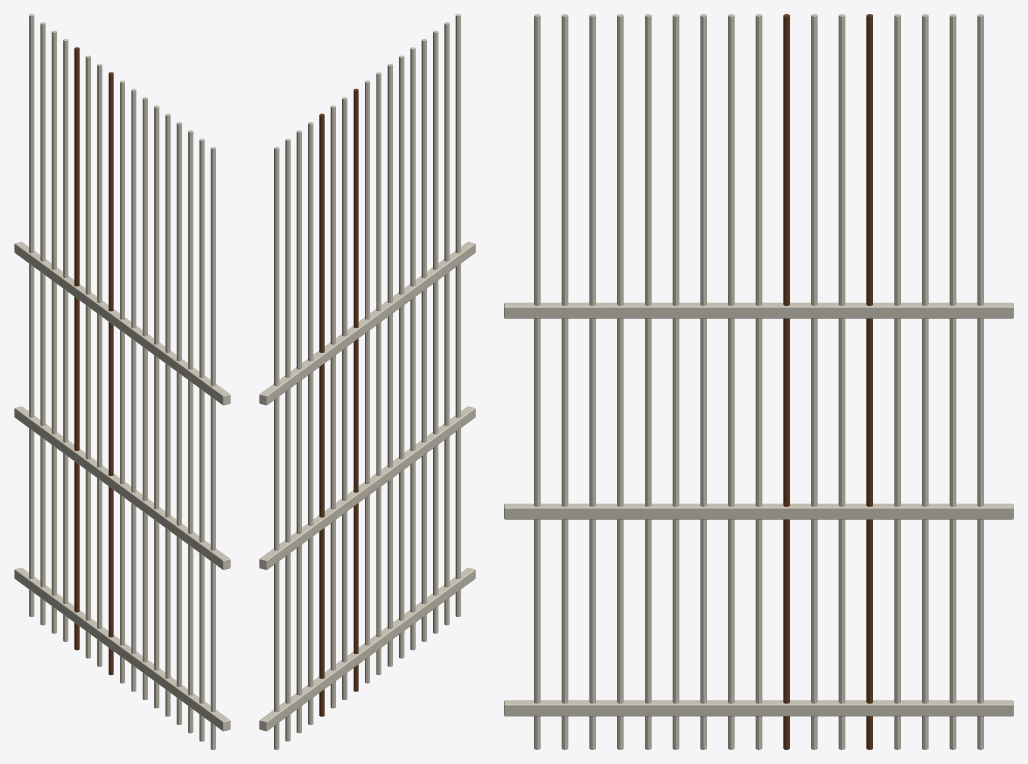
The model's file is bars_w2.glb.
3 views of the same model, side by side, from view 1: azimuth 30°, elevation 25°; view 2: azimuth 150°, elevation 25°; view 3: azimuth 270°, elevation 25° (orthographic). The views are drawn at different scales.
Visible parts, largest first — view 1: stab14, stab9, stab11, stab15, stab6, stab12, stab1, stab3, stab4, stab0, stab7, stab10 (+8 smaller); view 2: stab2, stab1, stab5, stab7, stab4, stab10, stab12, stab13, stab15, stab16, stab9, stab6 (+8 smaller); view 3: riegel0.12, riegel1.1, riegel2.1, stab8, stab1, stab15, stab5, stab11, stab4, stab12, stab2, stab14 (+8 smaller).
Boxes of the visible parts, left/top/right/bottom form: stab14: left=51, top=30, right=56, bottom=633; stab9: left=108, top=72, right=113, bottom=675; stab11: left=85, top=55, right=90, bottom=658; stab15: left=40, top=22, right=45, bottom=625; stab6: left=142, top=97, right=147, bottom=699; stab12: left=74, top=47, right=79, bottom=650; stab1: left=199, top=138, right=204, bottom=741; stab3: left=176, top=122, right=181, bottom=724; stab4: left=165, top=113, right=170, bottom=716; stab0: left=210, top=147, right=215, bottom=749; stab7: left=131, top=88, right=136, bottom=691; stab10: left=97, top=64, right=102, bottom=666; stab2: left=433, top=30, right=438, bottom=633; stab1: left=444, top=22, right=449, bottom=625; stab5: left=399, top=55, right=404, bottom=658; stab7: left=376, top=72, right=381, bottom=675; stab4: left=410, top=47, right=415, bottom=650; stab10: left=342, top=97, right=347, bottom=699; stab12: left=319, top=113, right=324, bottom=716; stab13: left=308, top=122, right=313, bottom=724; stab15: left=285, top=138, right=290, bottom=741; stab16: left=274, top=147, right=279, bottom=749; stab9: left=353, top=88, right=358, bottom=691; stab6: left=387, top=64, right=392, bottom=666; riegel0.12: left=504, top=700, right=1013, bottom=716; riegel1.1: left=504, top=503, right=1013, bottom=519; riegel2.1: left=504, top=302, right=1013, bottom=318; stab8: left=755, top=14, right=762, bottom=749; stab1: left=561, top=14, right=568, bottom=749; stab15: left=949, top=14, right=956, bottom=749; stab5: left=672, top=14, right=679, bottom=749; stab11: left=838, top=14, right=845, bottom=749; stab4: left=645, top=14, right=651, bottom=749; stab12: left=866, top=14, right=872, bottom=749; stab2: left=589, top=14, right=595, bottom=749; stab14: left=922, top=14, right=928, bottom=749.
Bounding box in the file's own units: 0.05 × 3.65 × 2.3.
